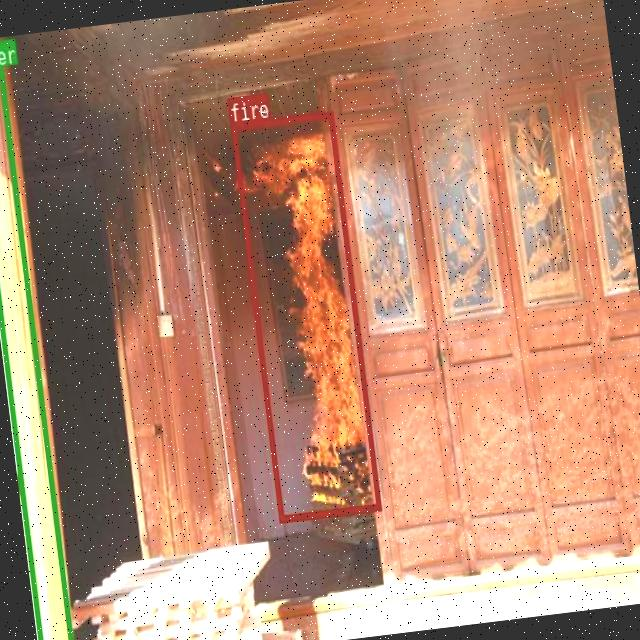fire: (230, 110, 380, 522)
